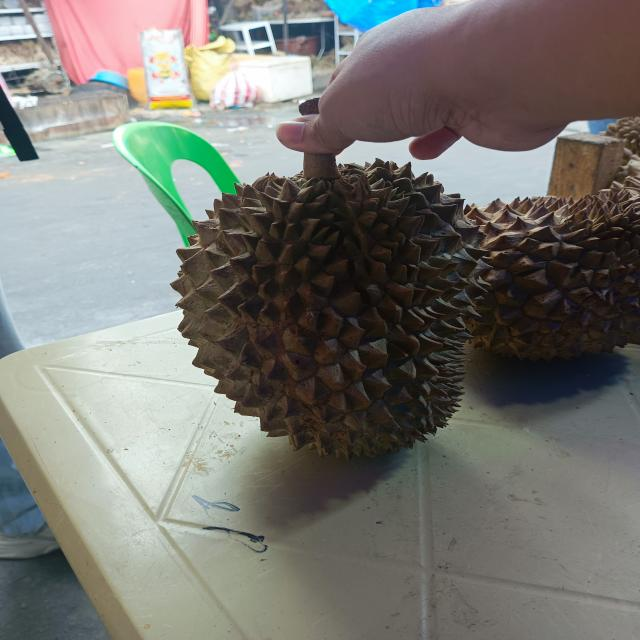mature: (171, 154, 489, 459), (465, 190, 640, 360)
